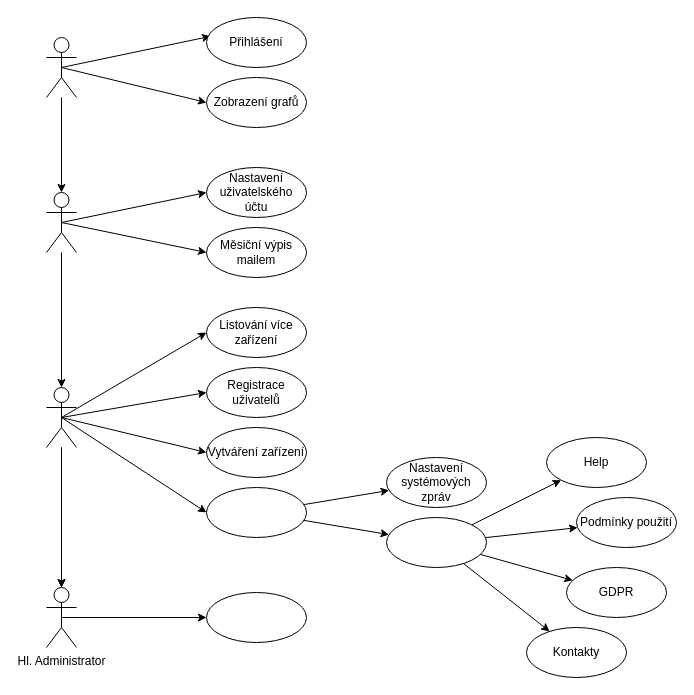
Some shapes in this 694 by 695 pixel diagram are drawn without their labels. The centre of each missing label's shape, as x and y in pixels:
"Administrator" goes at [61,417].
"Demo" goes at [61,67].
"Managment Administrátorů" goes at [256,617].
"Nastavení stáhnutelného obsahu" goes at [436,542].
"System managment" goes at [256,512].
"Uživatel" goes at [61,222].
